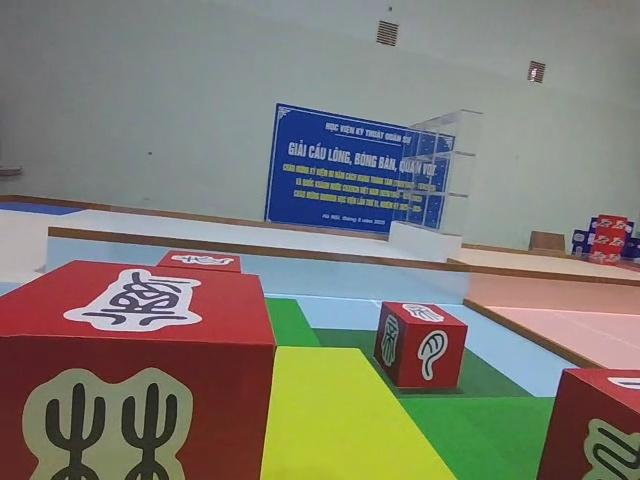R2 Fake: (0, 255, 279, 480), (533, 366, 640, 480), (371, 297, 469, 393)
